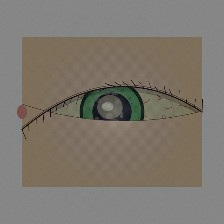corneal_ulcer: (89, 91, 131, 124)
